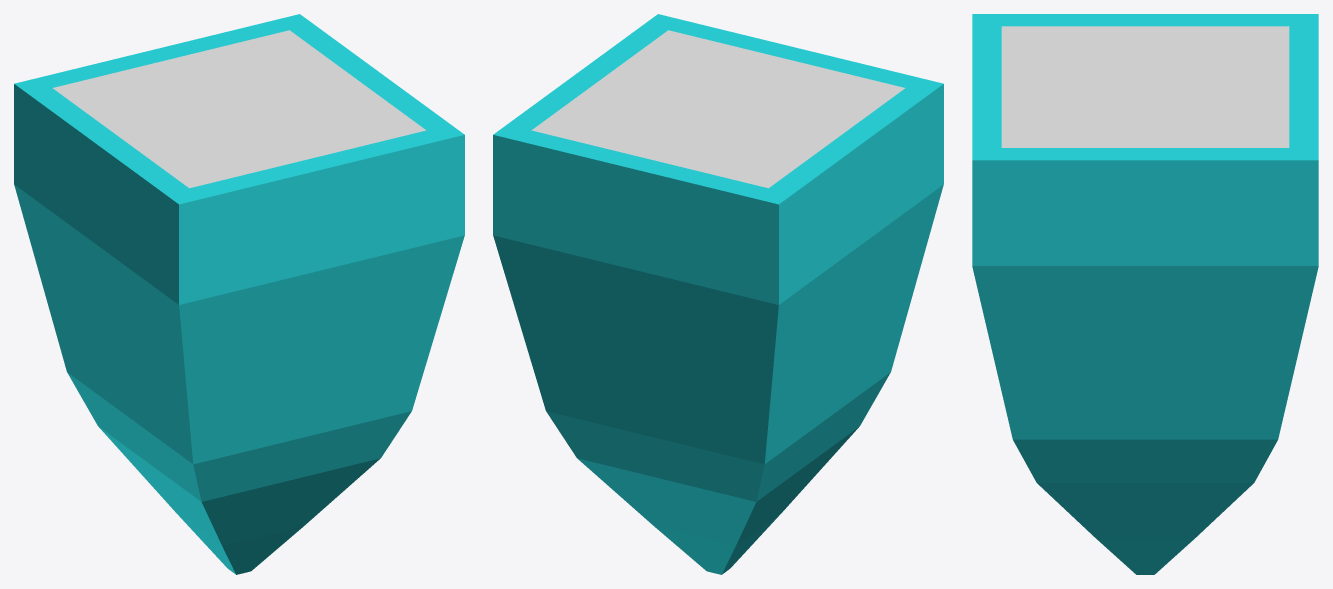
The model's file is plataformatorreta1 (1).fbx.
3 renders of one model, left to right at view 1: azimuth 30°, elevation 25°; view 2: azimuth 150°, elevation 25°; view 3: azimuth 270°, elevation 25°, orthographic. The views are drawn at different scales.
Visible parts, largest first — view 1: Cube.047; view 2: Cube.047; view 3: Cube.047.
Boxes of the visible parts, <box> form: Cube.047: <box>14,14,464,574</box>; Cube.047: <box>493,14,943,574</box>; Cube.047: <box>972,14,1318,574</box>.
Bounding box in the file's own units: 180 × 277 × 180.
